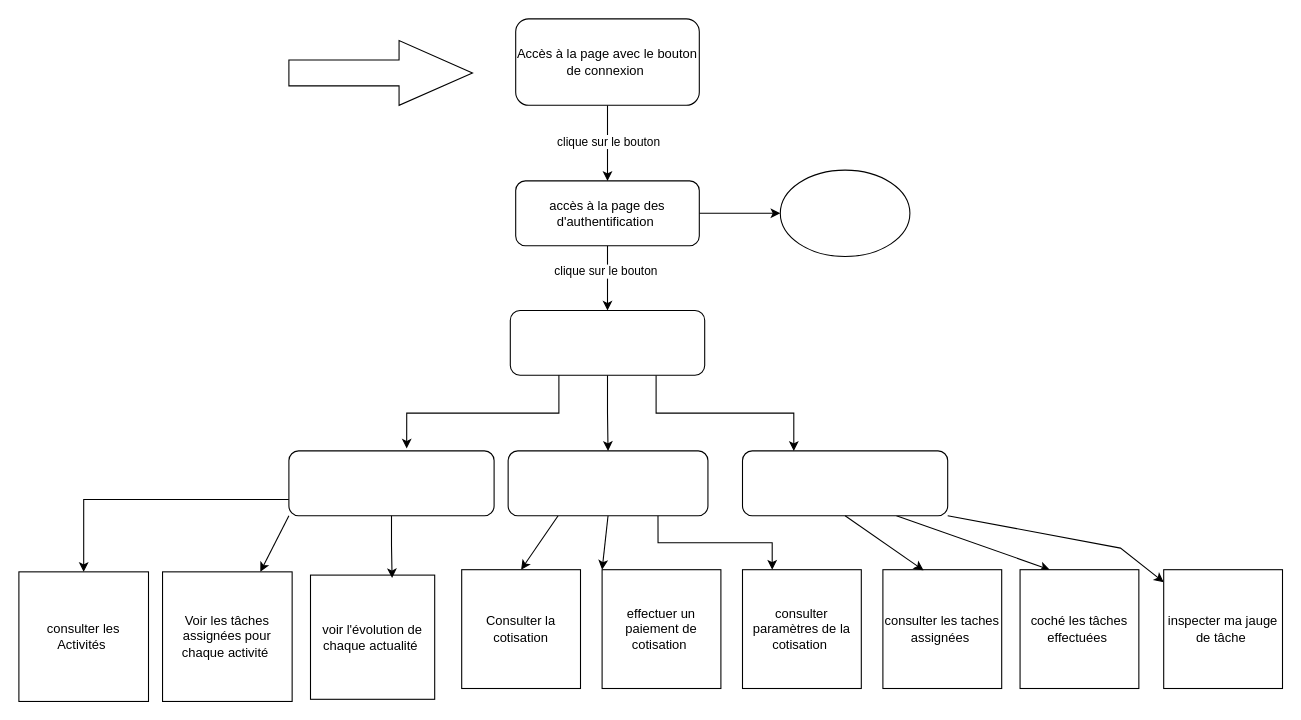
Image size: 1301x720. Some labels were removed from this diagram. The centre of each missing label's shape, as x and y in pixels:
Accès à la page d'accueil: point (607, 342)
accès à la page des activités: point (391, 483)
accès à la page des cotisation: point (607, 483)
accès à la pages des tâches: point (844, 483)
Ouverture de l'application: point (380, 72)
renseignements des informations demandées: point (844, 212)
